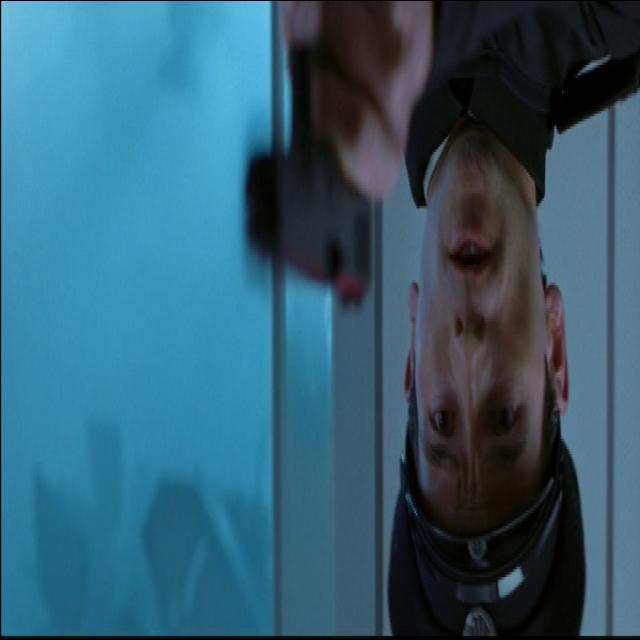weapons: (225, 4, 388, 339)
